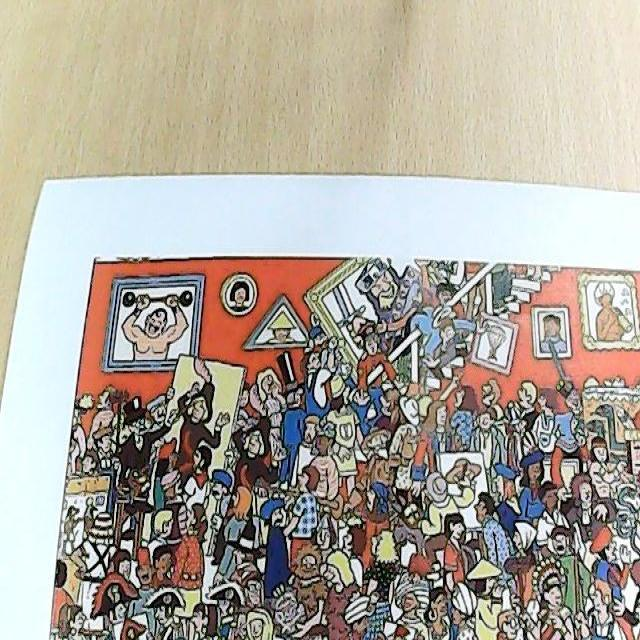waldo: (236, 568, 264, 605)
